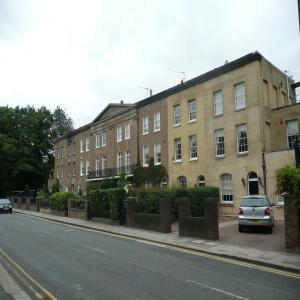Vehicle-registration-plate: (250, 220, 262, 224)
